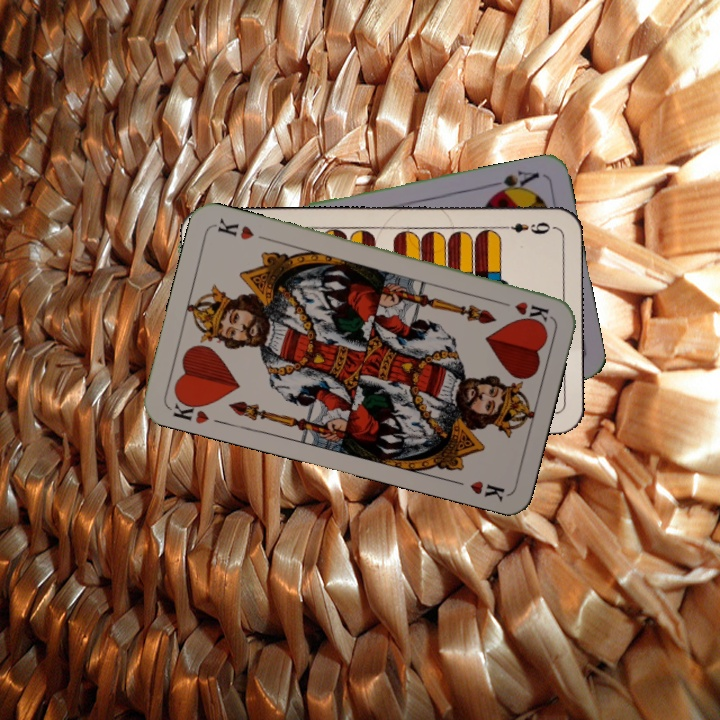E9: (496, 218, 555, 237)
HK: (493, 296, 552, 324), (169, 392, 212, 427)
SA: (485, 166, 542, 199)
